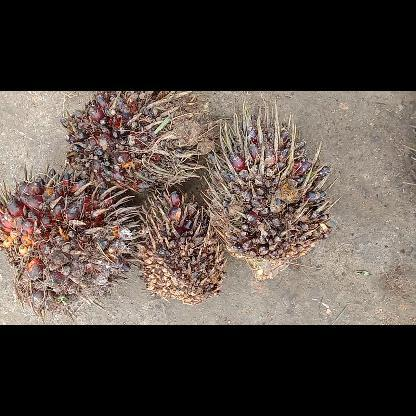TBS abnormal: (208, 105, 332, 281), (62, 90, 209, 194), (135, 190, 225, 304)
TBS masak: (2, 170, 138, 314)
